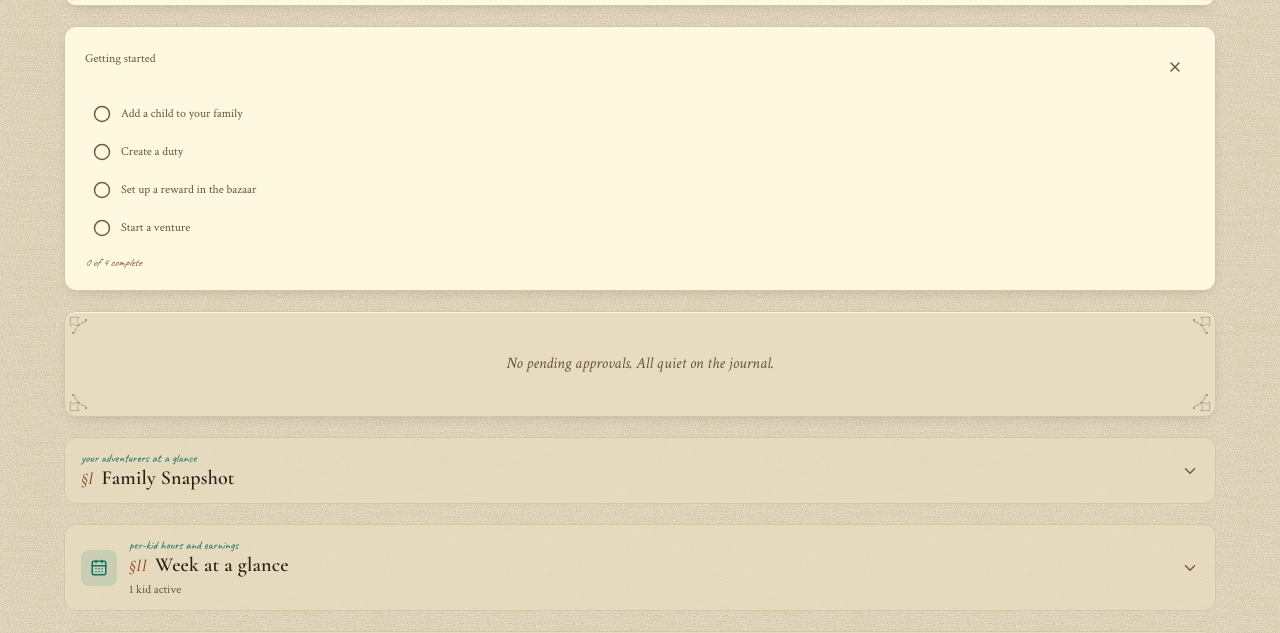
Test: ParentDashboard › renders per-kid hours and earnings from this_week_by_kid in Week at a glance
(page scrolled)
Expected: the text "1 kid active" is shown, [129, 582, 181, 597]
# …and expanding reveals the per-kid hours + earnings rows.
Step 1. Click the button "per-kid hours and earnings §II Week at a glance 1 kid active" → (99, 568), box [65, 525, 1215, 610]
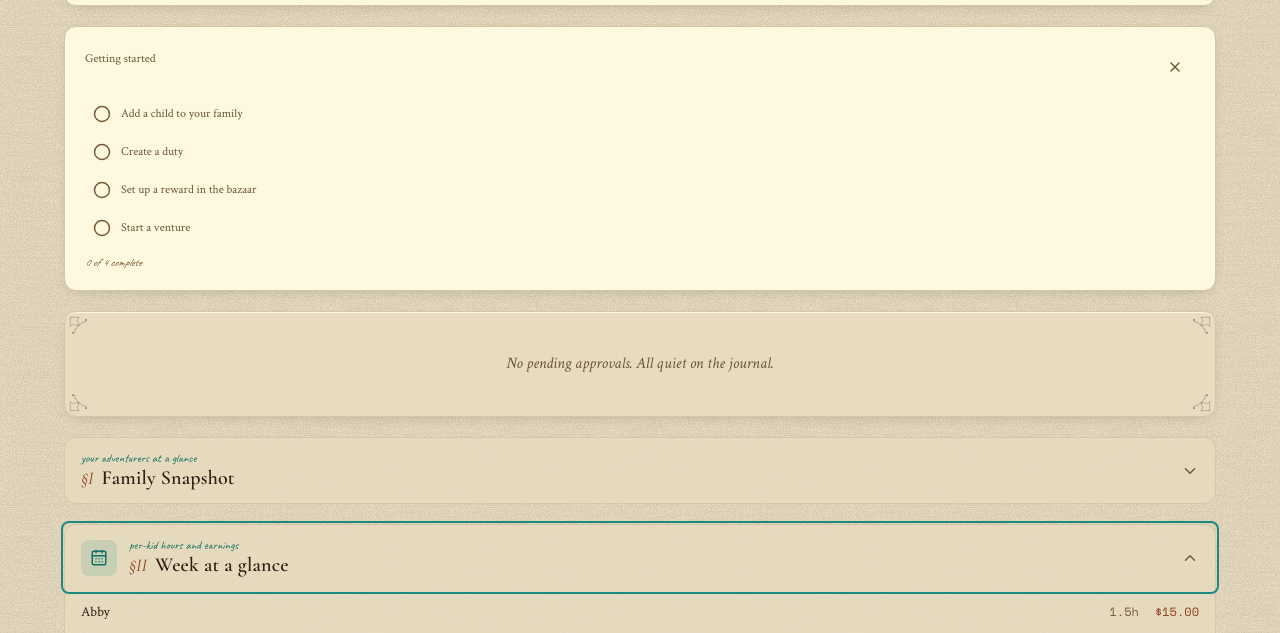
Now the text "Abby" is shown, box [81, 602, 110, 622]
Now the text "1.5h" is shown, box [1110, 604, 1139, 620]
Now the text "$15.00" is shown, box [1155, 604, 1199, 620]
